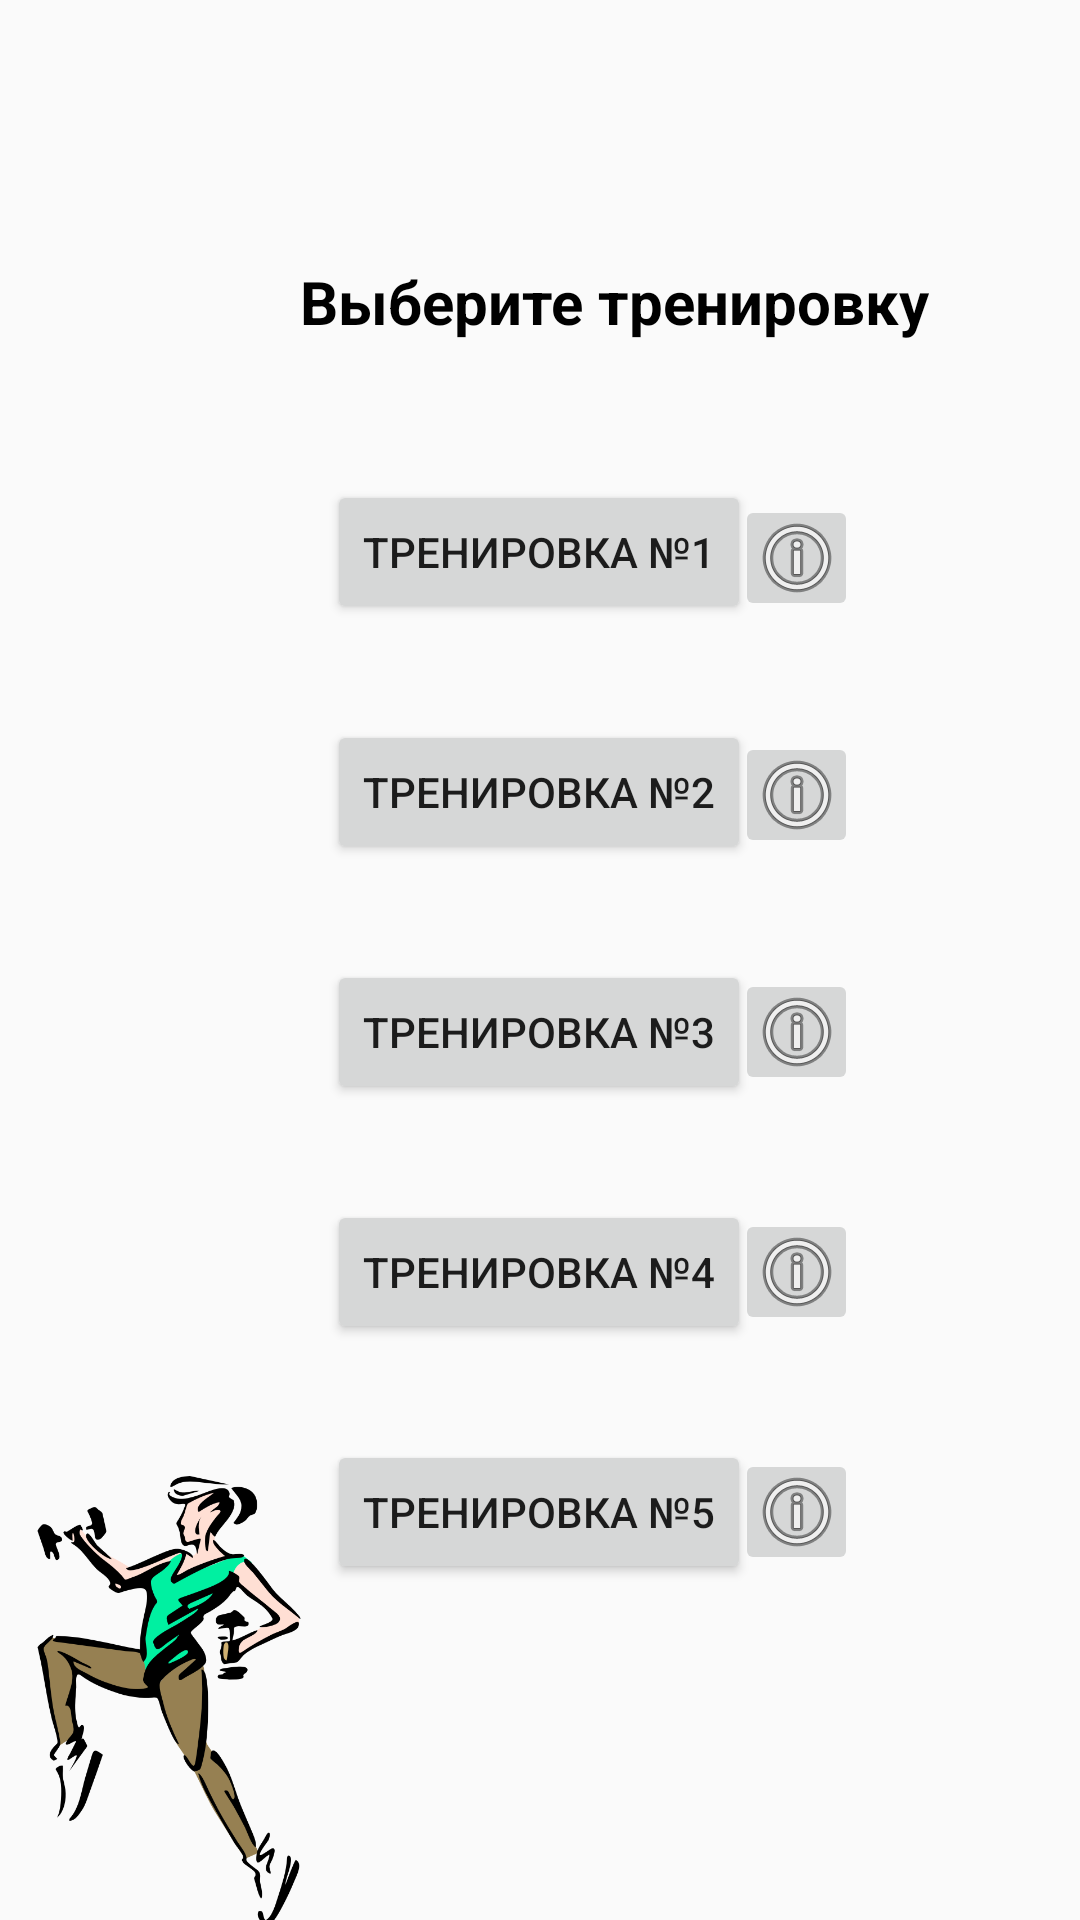

Named icons in this screenshot (1080px×1920px) and their bounding boxes, (x1, y1, x2, y2):
info details: (747, 513, 846, 603), (747, 750, 846, 840), (747, 987, 846, 1077), (747, 1227, 846, 1317), (747, 1467, 846, 1557)
